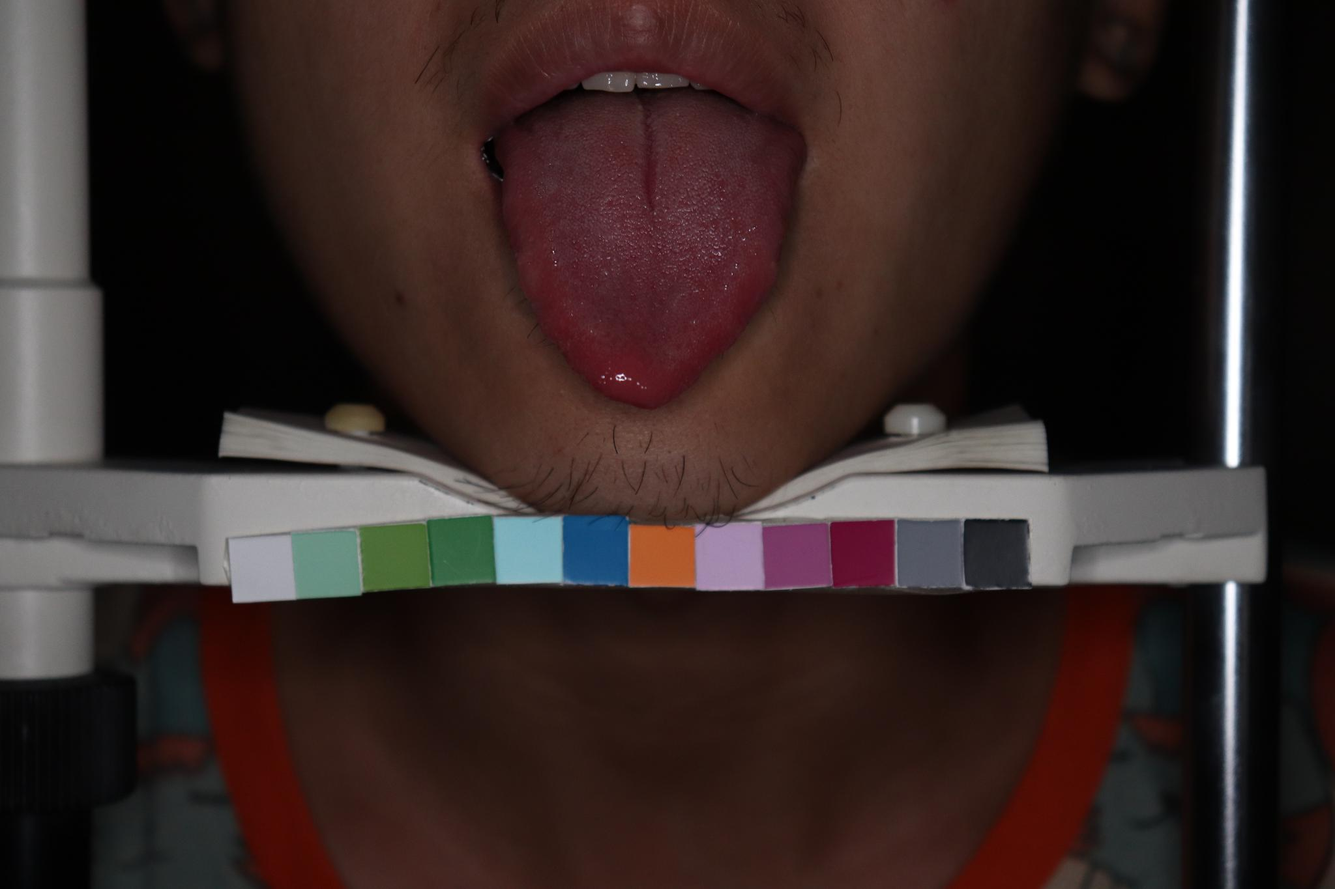hongshe: (501, 94, 800, 410)
liewenshe: (633, 95, 662, 220)
